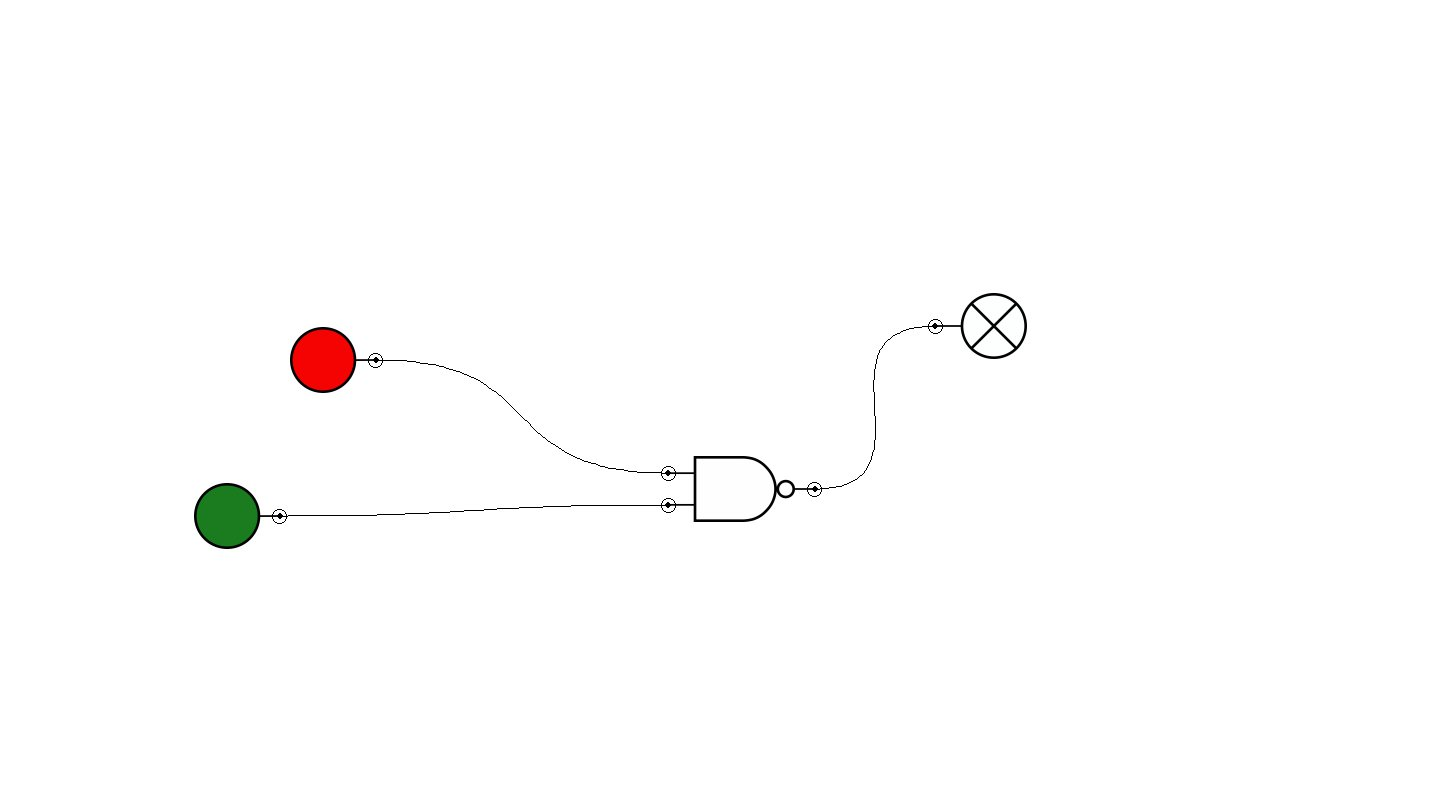bulb: (928, 293, 1027, 359)
nand: (661, 456, 822, 522)
switch_False: (290, 327, 383, 393)
switch_True: (194, 483, 287, 549)
